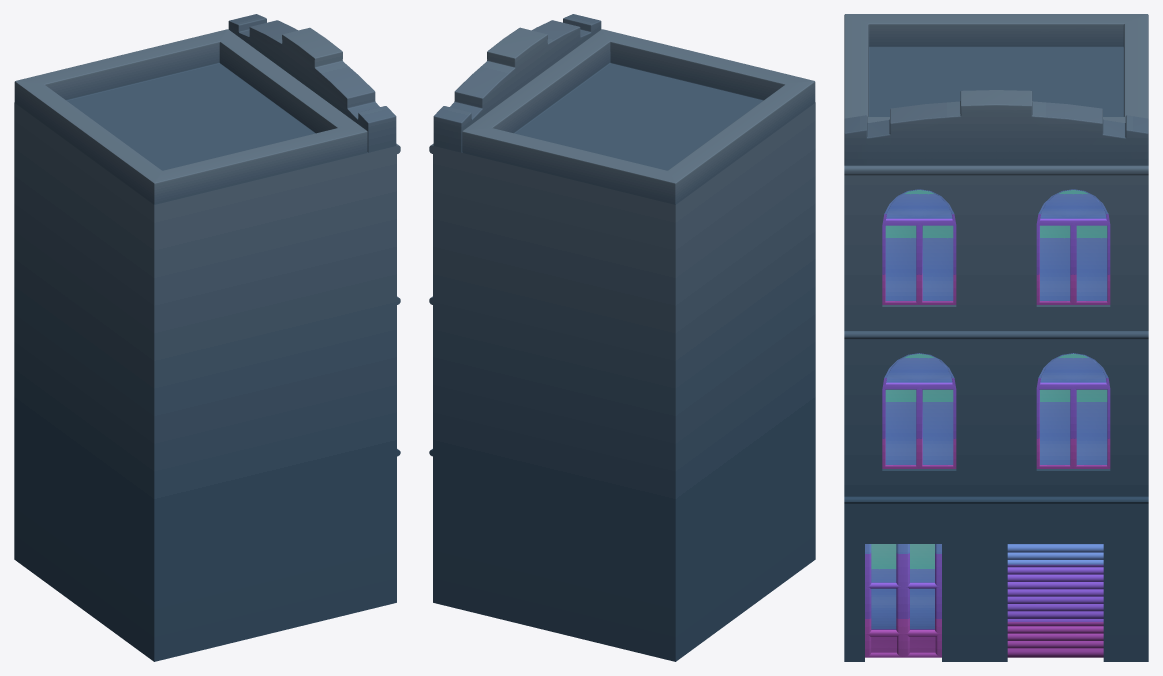
The model's file is SM_buildingBig02.fbx.
3 views of the same model, side by side, from view 1: azimuth 30°, elevation 25°; view 2: azimuth 150°, elevation 25°; view 3: azimuth 270°, elevation 25° (orthographic). The views are drawn at different scales.
Parts seen in each view (by area): view 1: SM_buildingBig02; view 2: SM_buildingBig02; view 3: SM_buildingBig02.
Part boxes in pixels (bbox=[...]): SM_buildingBig02: bbox=[14, 14, 400, 661]; SM_buildingBig02: bbox=[429, 14, 815, 661]; SM_buildingBig02: bbox=[844, 14, 1148, 661].
Size of the model in its own units: 508 by 1011 by 500.
